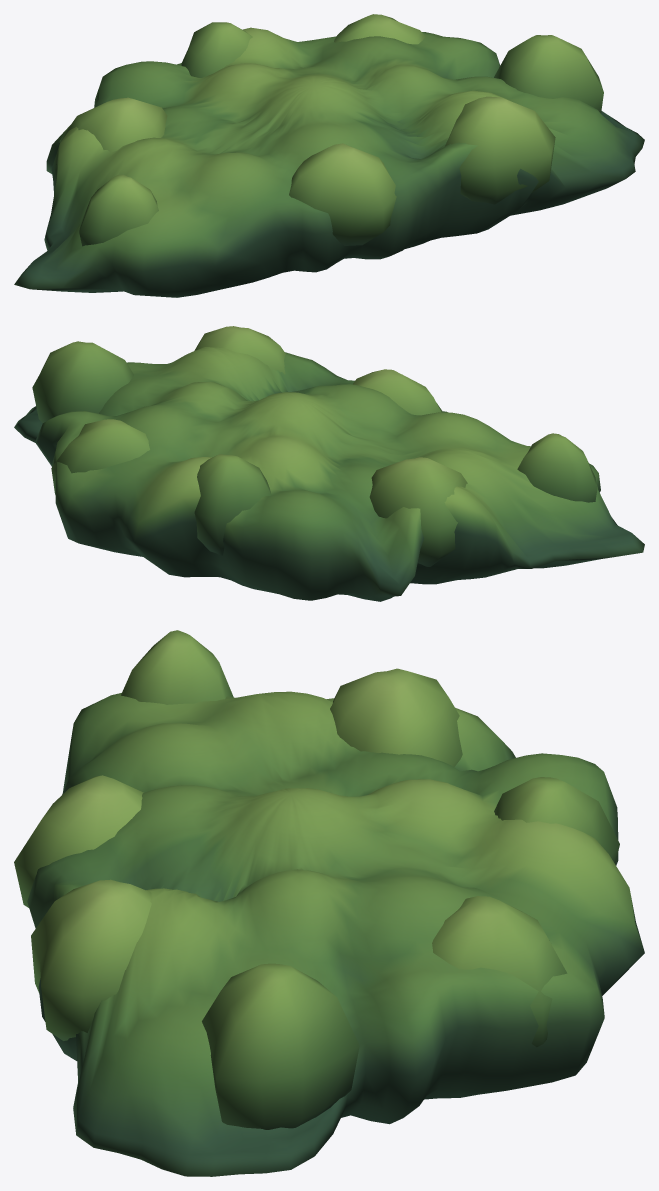
File: ForestEdge_B.fbx
3 renders of one model, top to bottom at view 1: azimuth 30°, elevation 25°; view 2: azimuth 150°, elevation 25°; view 3: azimuth 270°, elevation 25°, orthographic. The views are drawn at different scales.
Parts seen in each view (by area): view 1: ForestEdge_B; view 2: ForestEdge_B; view 3: ForestEdge_B.
Part boxes in pixels (left/top/right/bottom): ForestEdge_B: left=14, top=14, right=644, bottom=297; ForestEdge_B: left=14, top=326, right=644, bottom=601; ForestEdge_B: left=14, top=630, right=644, bottom=1176.
Bounding box in the file's own units: 3857 × 755 × 2176.
1 material, 1 textured.
